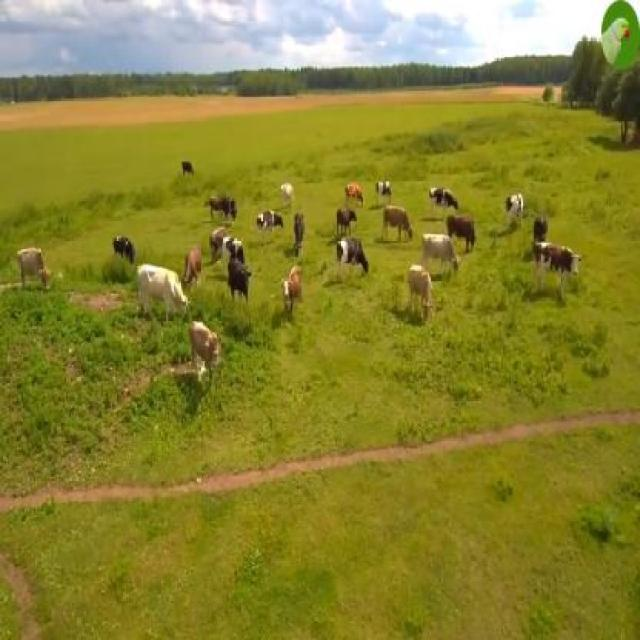Cow: (138, 265, 190, 332)
